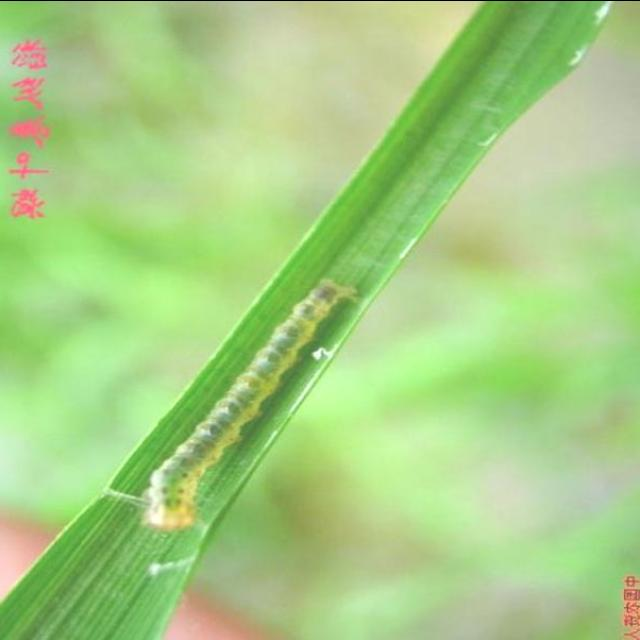leaf folder: (142, 279, 357, 528)
